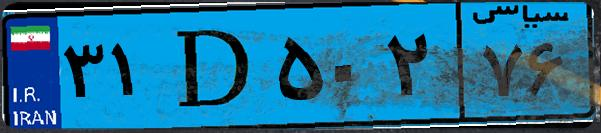0: (330, 28, 385, 110)
1: (110, 28, 158, 98)
2: (385, 28, 445, 110)
3: (57, 26, 110, 100)
5: (270, 28, 330, 110)
6: (525, 38, 570, 115)
7: (475, 38, 525, 113)
D: (158, 12, 270, 120)
